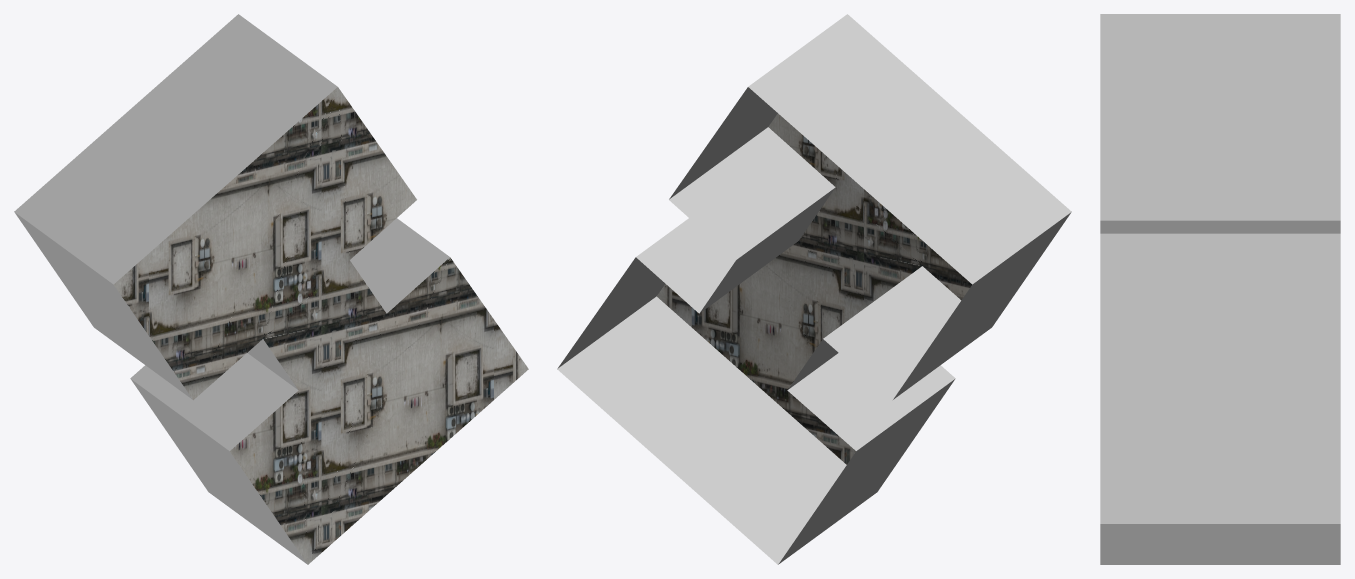
Rendered from geospecific_1752.obj.
The picture shows the model from 3 angles, left to right: view 1: azimuth 30°, elevation 25°; view 2: azimuth 150°, elevation 25°; view 3: azimuth 270°, elevation 25°; orthographic projection. The views are drawn at different scales.
Parts seen in each view (by area): view 1: Building; view 2: Building; view 3: Building.
Part boxes in pixels (x1,y1,x2,y2): Building: (14, 14, 528, 564); Building: (557, 14, 1071, 564); Building: (1100, 14, 1340, 564).
Size of the model in its own units: 28.92 by 31.33 by 12.
